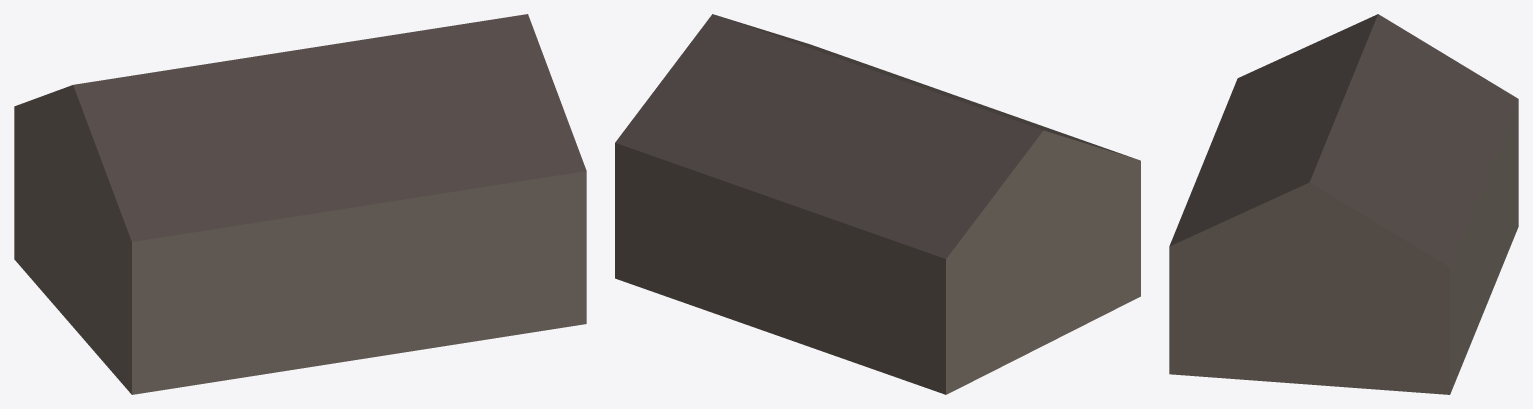
The picture shows the model from 3 angles, left to right: view 1: azimuth 30°, elevation 25°; view 2: azimuth 150°, elevation 25°; view 3: azimuth 270°, elevation 25°; orthographic projection. The views are drawn at different scales.
Parts seen in each view (by area): view 1: HP-w859082498; view 2: HP-w859082498; view 3: HP-w859082498.
Boxes of the visible parts, left/top/right/bottom form: HP-w859082498: left=14, top=14, right=586, bottom=394; HP-w859082498: left=615, top=14, right=1140, bottom=394; HP-w859082498: left=1169, top=14, right=1518, bottom=394.
Size of the model in its own units: 19.09 by 9.51 by 14.9.
